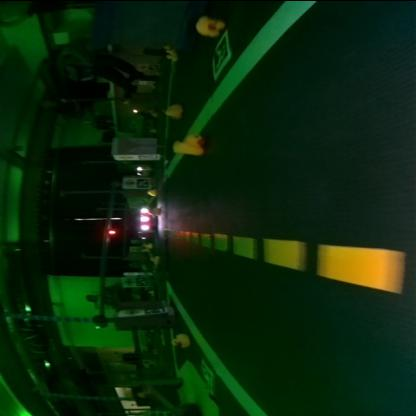Duckie: (174, 132, 200, 154), (198, 16, 222, 34), (173, 333, 187, 346), (164, 102, 178, 115), (150, 207, 158, 213), (147, 188, 154, 194), (151, 255, 158, 260)
Duckiebot: (134, 206, 152, 233)
QR code: (209, 30, 230, 74), (198, 360, 214, 386), (134, 276, 148, 284), (138, 176, 148, 186), (146, 308, 164, 312)
Traffic light: (107, 228, 117, 233)
